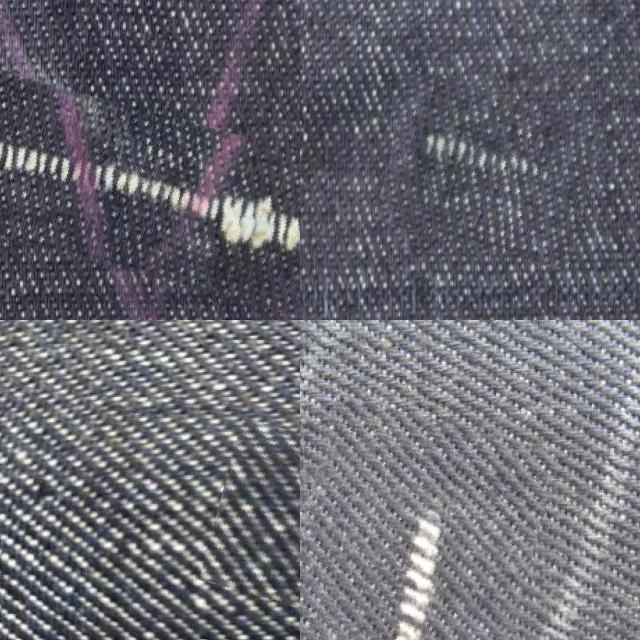stains: (0, 75, 300, 299), (300, 406, 542, 640), (382, 82, 600, 260), (208, 429, 300, 617)
